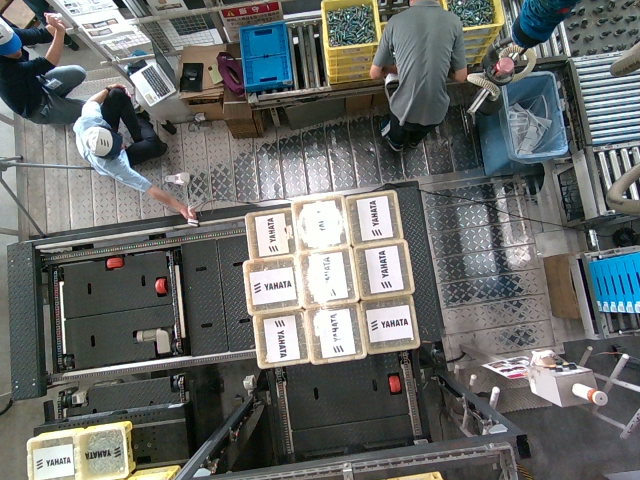box: (245, 257, 299, 312), (299, 247, 353, 302), (254, 314, 308, 369), (309, 305, 363, 360), (356, 243, 410, 298), (362, 298, 416, 353), (245, 208, 295, 258), (293, 198, 343, 248), (349, 190, 399, 240)
